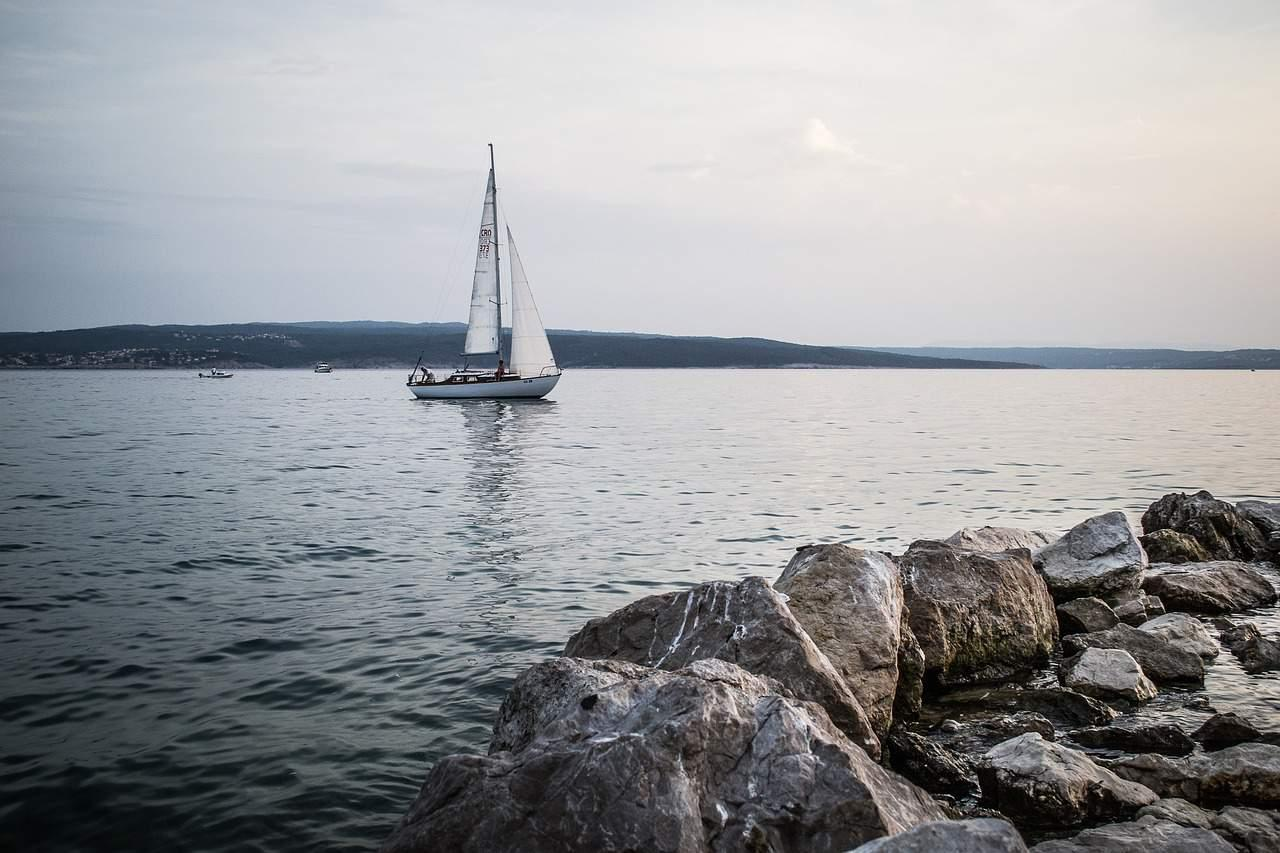Ship: (406, 145, 564, 402)
